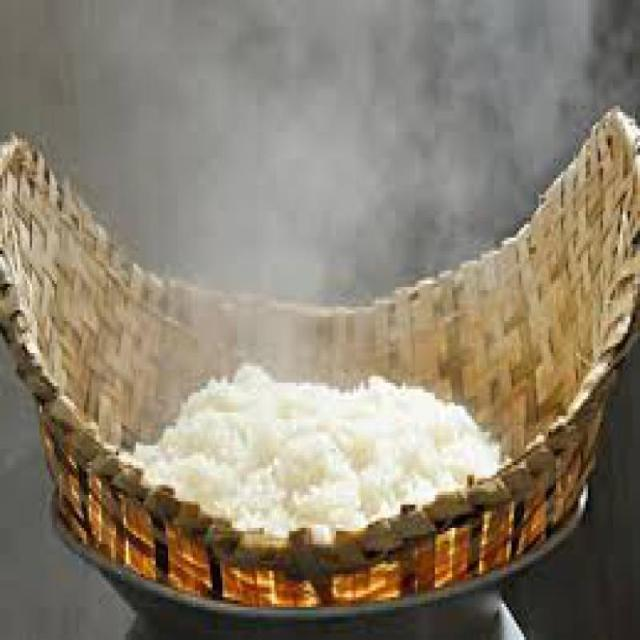nasi_putih: (128, 360, 502, 530)
